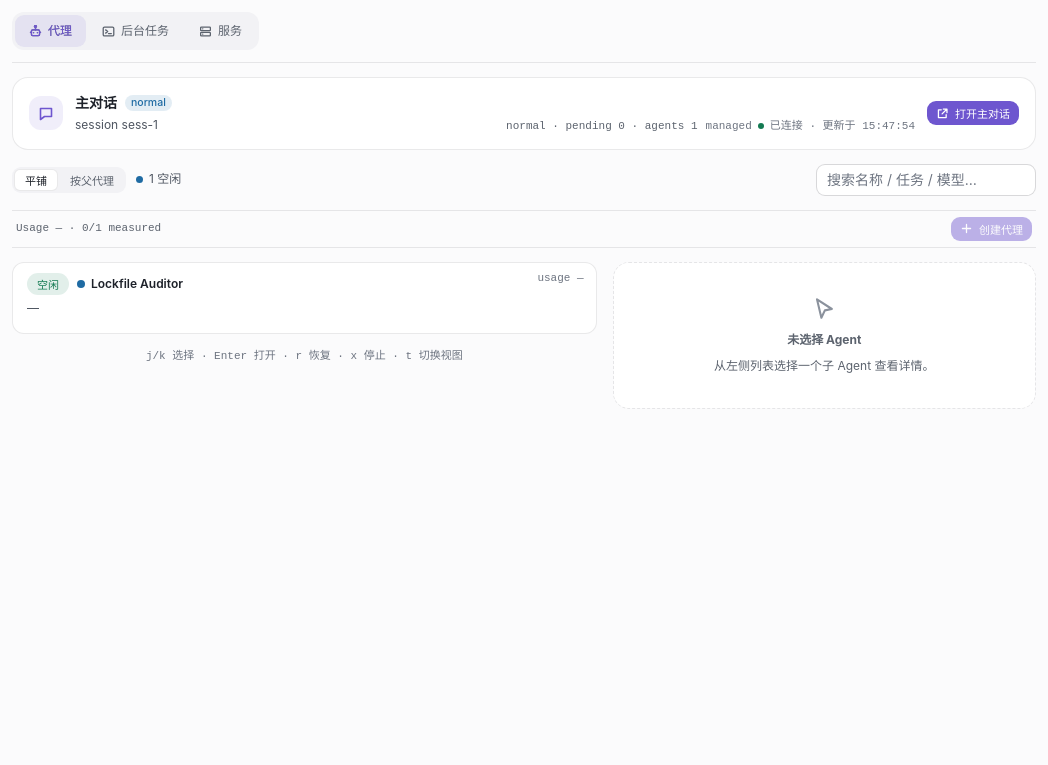
Test: AgentHubPage conversation preview › opens a main-conversation pane, narrows the list, and restores Overview on back
Click the option "空闲 Lockfile Auditor — usage —" at (48, 284), box [12, 262, 597, 334]
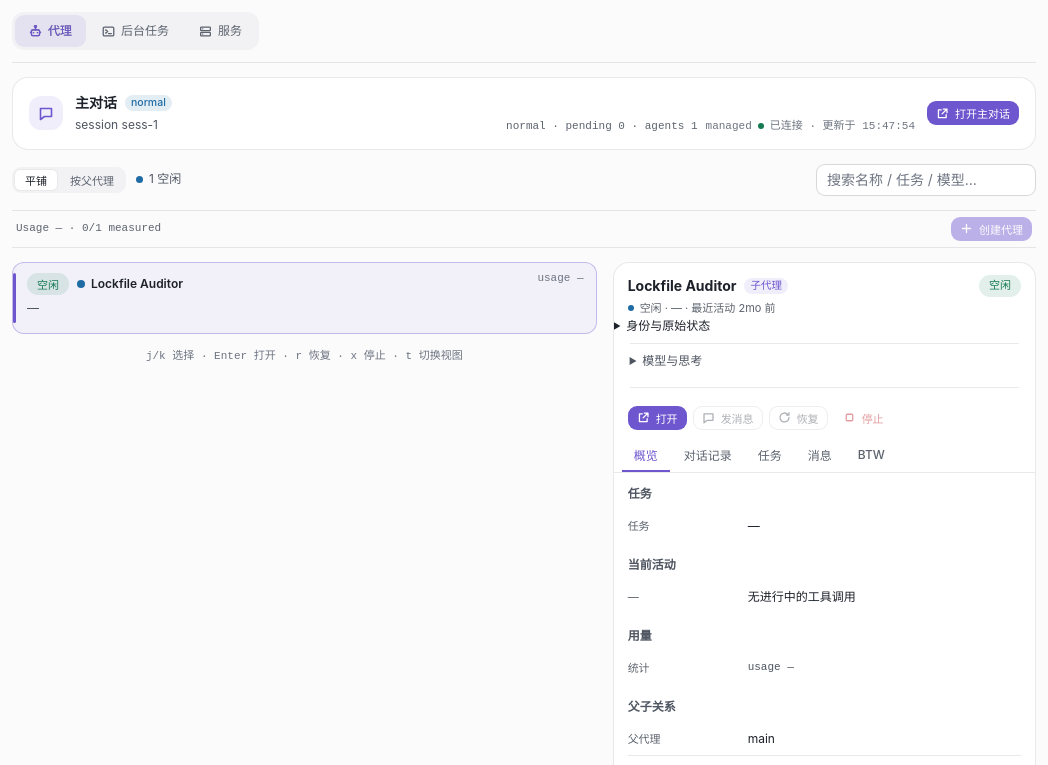
Click the button "打开" at (657, 418), box [628, 406, 687, 430]
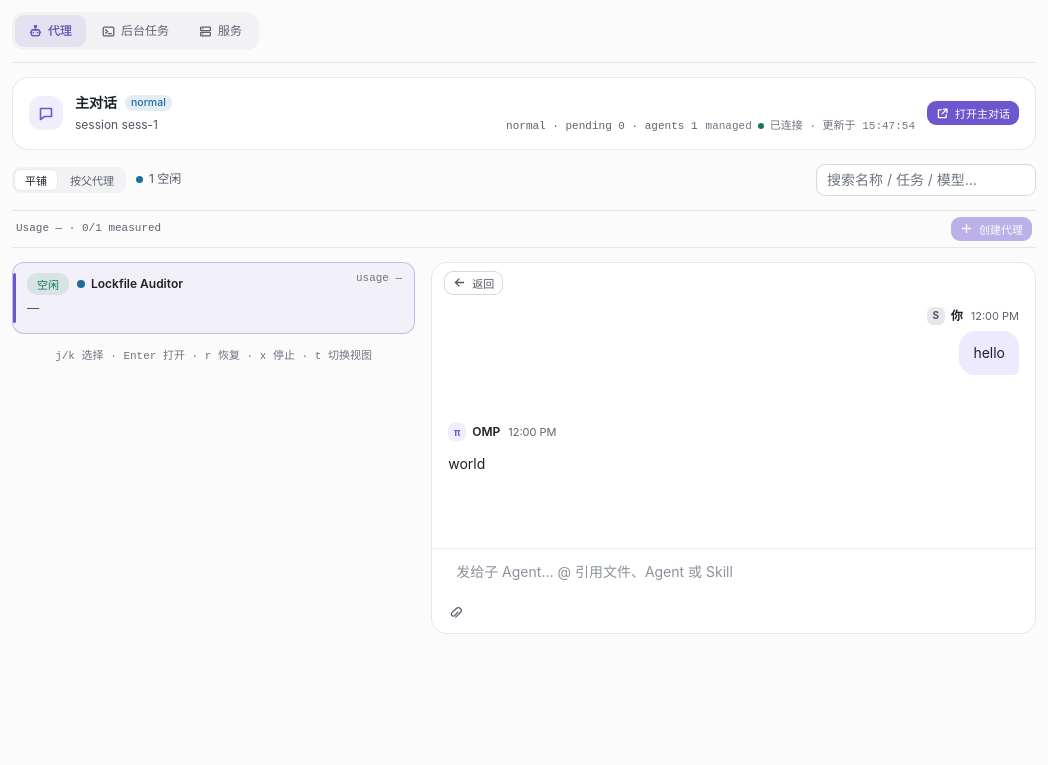
expect the element with class "is-chat-preview" that starts with "后台任务" is shown: met
expect the element with class "is-chat-preview" that starts with "Lockfile Auditor" is shown: met, box [12, 262, 1036, 634]
expect the button "返回" is shown: met
Click the button "返回" at (474, 283), box [444, 271, 503, 295]
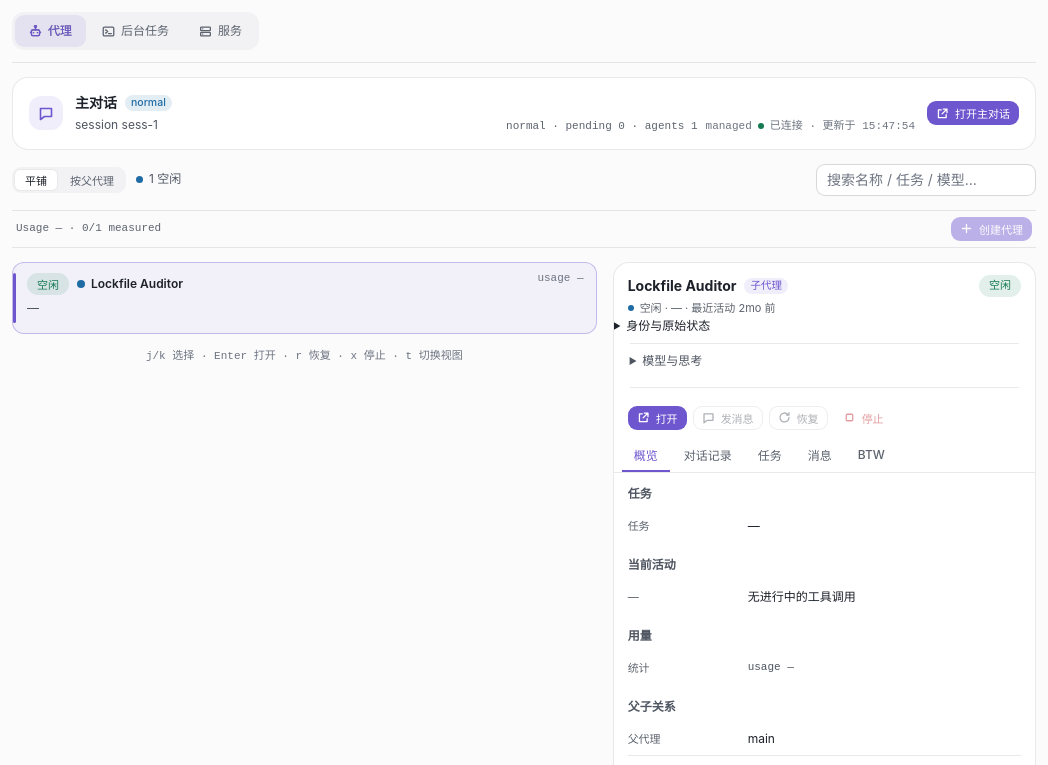
expect the tab "概览" is shown: met, box [622, 440, 670, 472]
expect the button "打开" is shown: met, box [628, 406, 687, 430]
